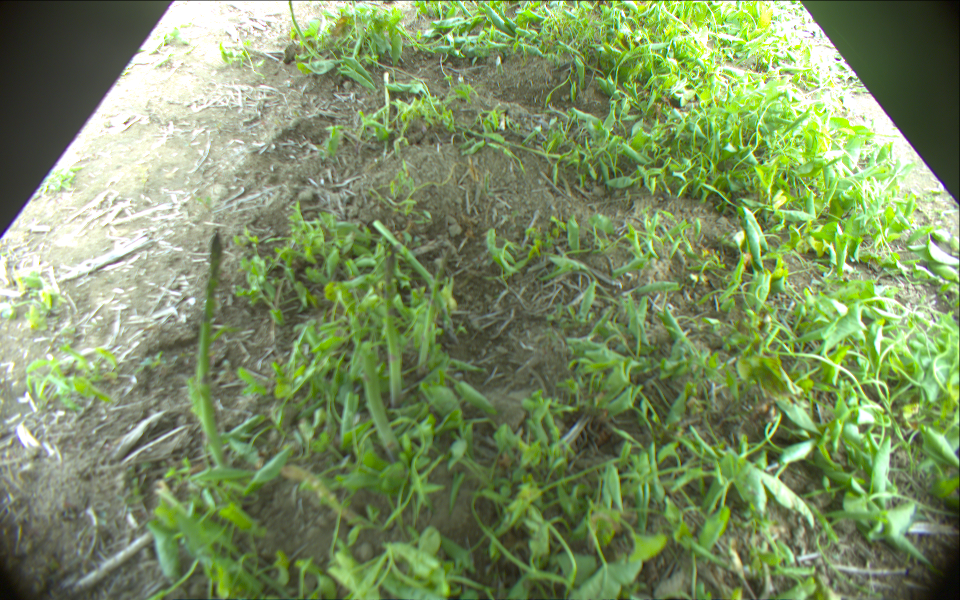aspa: (191, 231, 224, 466), (373, 220, 452, 303), (356, 337, 404, 462), (418, 256, 451, 372), (383, 243, 405, 408), (286, 1, 321, 58)
